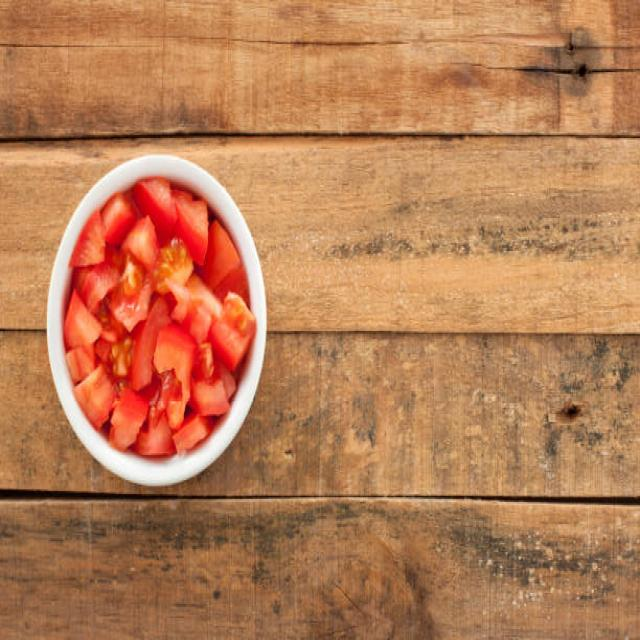Tomato: (71, 190, 246, 453)
